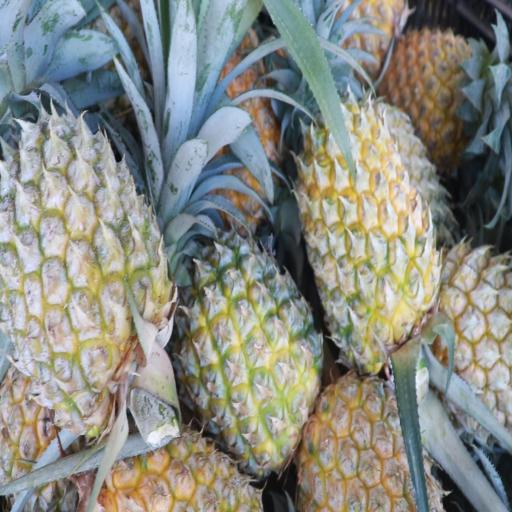------------------------------: (0, 123, 162, 416), (186, 234, 318, 458)
Pineapple - v8 v1: (299, 89, 430, 365), (304, 363, 436, 512), (389, 24, 498, 153)
